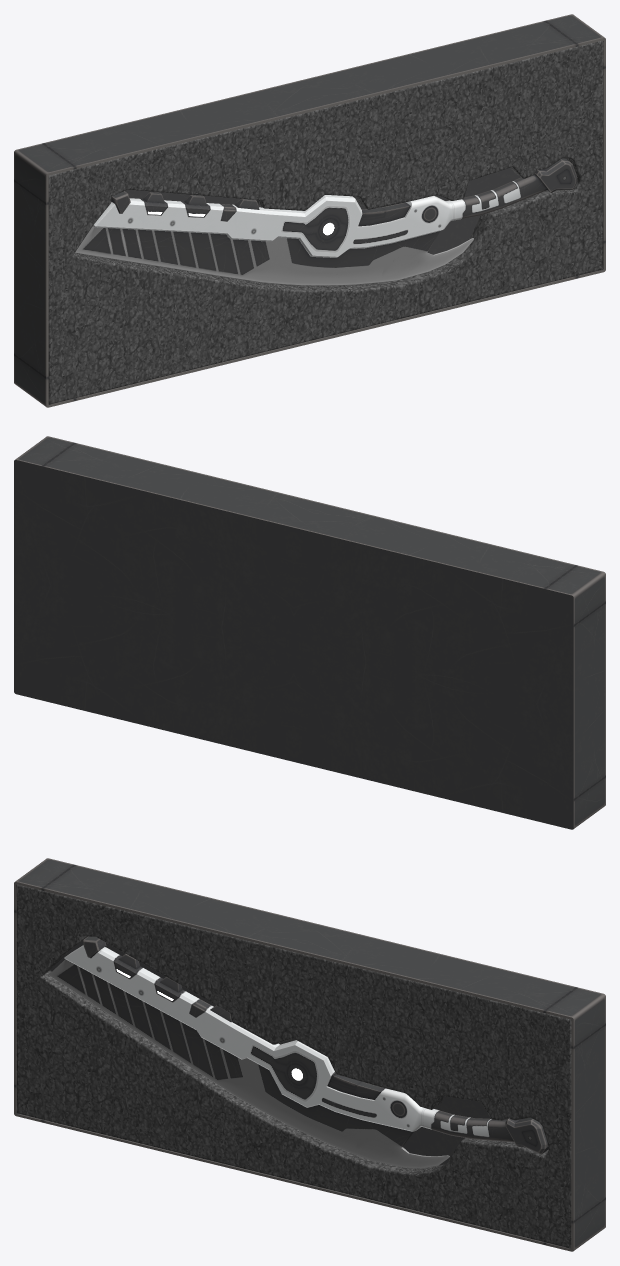
File: MeleeMachete01Case.FBX
3 renders of one model, top to bottom at view 1: azimuth 30°, elevation 25°; view 2: azimuth 150°, elevation 25°; view 3: azimuth 330°, elevation 25°, orthographic.
Parts seen in each view (by area): view 1: Case, Weapon; view 2: Case; view 3: Case, Weapon.
Boxes of the visible parts, x1,y1,x2,y2 form: Case: (14,14,605,407); Weapon: (75,158,577,285); Case: (14,436,605,829); Case: (14,858,605,1251); Weapon: (49,936,548,1168).
Size of what is drawn, in the model's own units: 1 by 0.4 by 0.1036.
